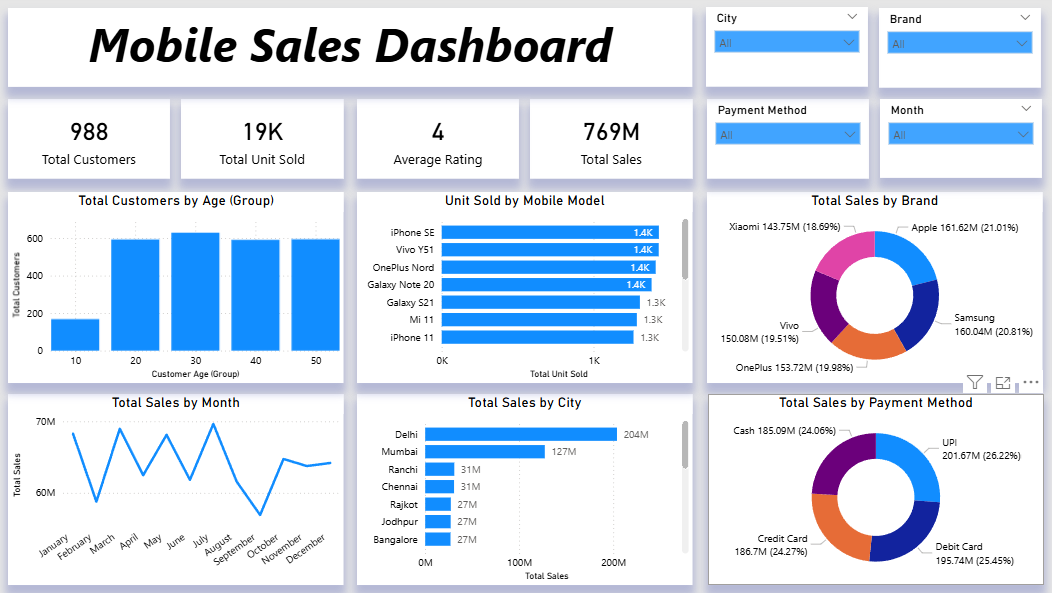

The page's visual inventory and layout, read from the dashboard file:
{"tool":"powerbi","page":{"name":"Page 1","canvas":[1280,720],"ordinal":0},"visuals":[{"type":"card","fields":{"Values":["mobile.TOTAL_SALE"]},"box":[643,125.7,195.7,95.7],"z":0},{"type":"card","fields":{"Values":["mobile.TOTAL_UNIT_SOLD"]},"box":[222.9,125,195.7,95.7],"z":1000},{"type":"card","fields":{"Values":["mobile.TOTAL_CUSTOMERS"]},"box":[14.3,125,195,95.7],"z":2000},{"type":"card","fields":{"Values":["mobile.AVERAGE_RATING"]},"box":[435,125,195,95.7],"z":3000},{"type":"lineChart","title":"Total Sales by Month","fields":{"Category":["mobile.date_column.Variation.Date Hierarchy.Month"],"Y":["mobile.TOTAL_SALE"]},"box":[14,480,404.3,230],"z":4000},{"type":"donutChart","title":"Total Sales by Brand","fields":{"Category":["mobile.Brand"],"Y":["mobile.TOTAL_SALE"]},"box":[855.7,237,404,230],"z":5000},{"type":"clusteredBarChart","title":"Total Sales by City","fields":{"Category":["mobile.City"],"Y":["mobile.TOTAL_SALE"]},"box":[435,480,404.3,230],"z":6000},{"type":"clusteredBarChart","title":"Unit Sold by Mobile Model","fields":{"Category":["mobile.Mobile Model"],"Y":["mobile.TOTAL_UNIT_SOLD"]},"box":[435,237,404.3,230],"z":7000},{"type":"slicer","fields":{"Values":["mobile.Payment Method"]},"box":[855.7,125.7,195,95.7],"z":8000},{"type":"slicer","fields":{"Values":["mobile.Brand"]},"box":[1063,15.7,195,95.7],"z":9000},{"type":"slicer","fields":{"Values":["mobile.City"]},"box":[855,15,195,95.7],"z":10000},{"type":"slicer","fields":{"Values":["mobile.Month"]},"box":[1063.9,125.2,195.2,95],"z":11000},{"type":"donutChart","title":"Total Sales by Payment Method","fields":{"Category":["mobile.Payment Method"],"Y":["mobile.TOTAL_SALE"]},"box":[857.1,480,404.3,230],"z":12000},{"type":"clusteredColumnChart","title":"Total Customers by Age (Group)","fields":{"Category":["mobile.Customer Age (bins)"],"Y":["mobile.Total Customers"]},"box":[14,237,404.3,230],"z":13000},{"type":"textbox","box":[14.3,15.7,824.3,95],"z":14000}]}

Visuals, with their boxes in screenshot pixels (x1, y1, x2, y2), scaled from the page's 1280x720 canvas onto the 1052x593 screenshot:
card - mobile.TOTAL_SALE: (528, 104, 689, 182)
card - mobile.TOTAL_UNIT_SOLD: (183, 103, 344, 182)
card - mobile.TOTAL_CUSTOMERS: (12, 103, 172, 182)
card - mobile.AVERAGE_RATING: (358, 103, 518, 182)
"Total Sales by Month" lineChart: (12, 395, 344, 585)
"Total Sales by Brand" donutChart: (703, 195, 1035, 385)
"Total Sales by City" clusteredBarChart: (358, 395, 690, 585)
"Unit Sold by Mobile Model" clusteredBarChart: (358, 195, 690, 385)
slicer - mobile.Payment Method: (703, 104, 864, 182)
slicer - mobile.Brand: (874, 13, 1034, 92)
slicer - mobile.City: (703, 12, 863, 91)
slicer - mobile.Month: (874, 103, 1035, 181)
"Total Sales by Payment Method" donutChart: (704, 395, 1037, 585)
"Total Customers by Age (Group)" clusteredColumnChart: (12, 195, 344, 385)
textbox: (12, 13, 689, 91)
